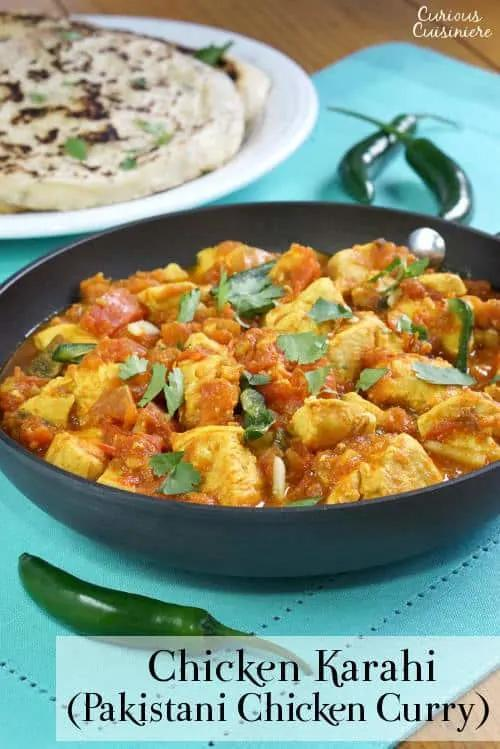chicken: (60, 275, 494, 506)
